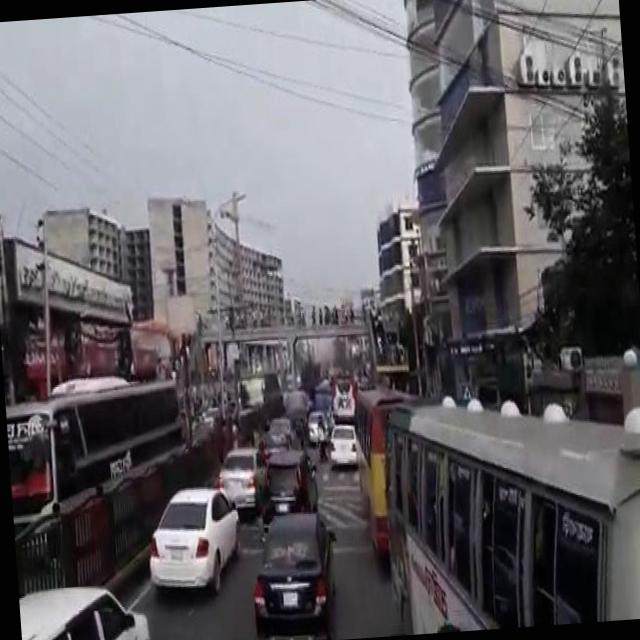bus: (378, 384, 640, 632), (5, 372, 193, 566), (353, 384, 429, 556), (238, 369, 282, 408), (329, 368, 358, 418)
car: (250, 510, 342, 640), (146, 481, 246, 588), (20, 579, 152, 640), (216, 444, 272, 504), (330, 419, 360, 462), (309, 407, 328, 438)
truck: (258, 447, 322, 529)
